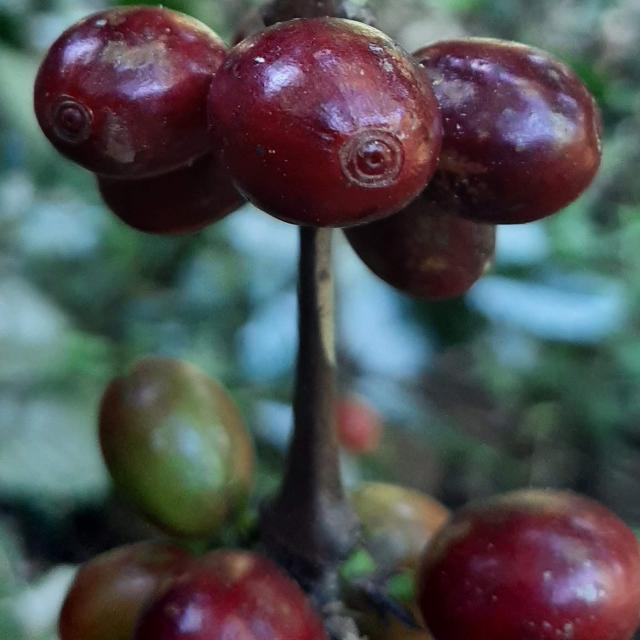Ripe: (207, 17, 442, 227), (414, 37, 603, 224), (33, 6, 227, 179), (418, 490, 640, 640), (134, 551, 328, 640), (345, 195, 497, 300), (97, 152, 245, 234)
Unripe: (99, 358, 254, 538), (58, 543, 193, 640)
